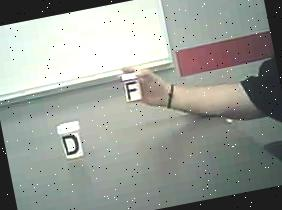Bottle D: (53, 118, 92, 167)
Bottle F: (118, 66, 146, 110)
